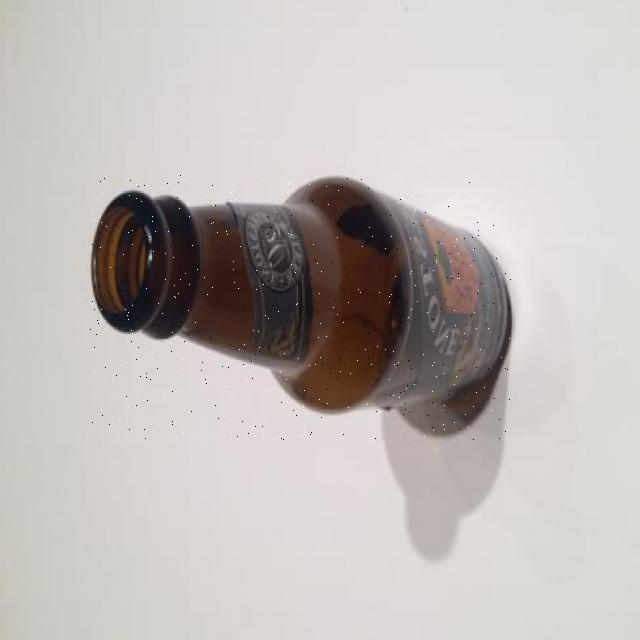glass: (90, 174, 514, 440)
